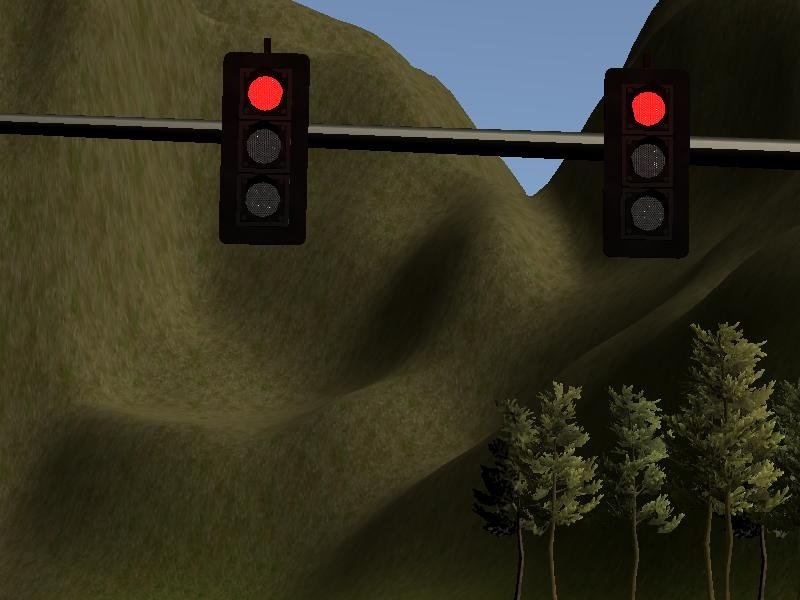RED: (221, 51, 308, 243), (601, 67, 688, 259)
